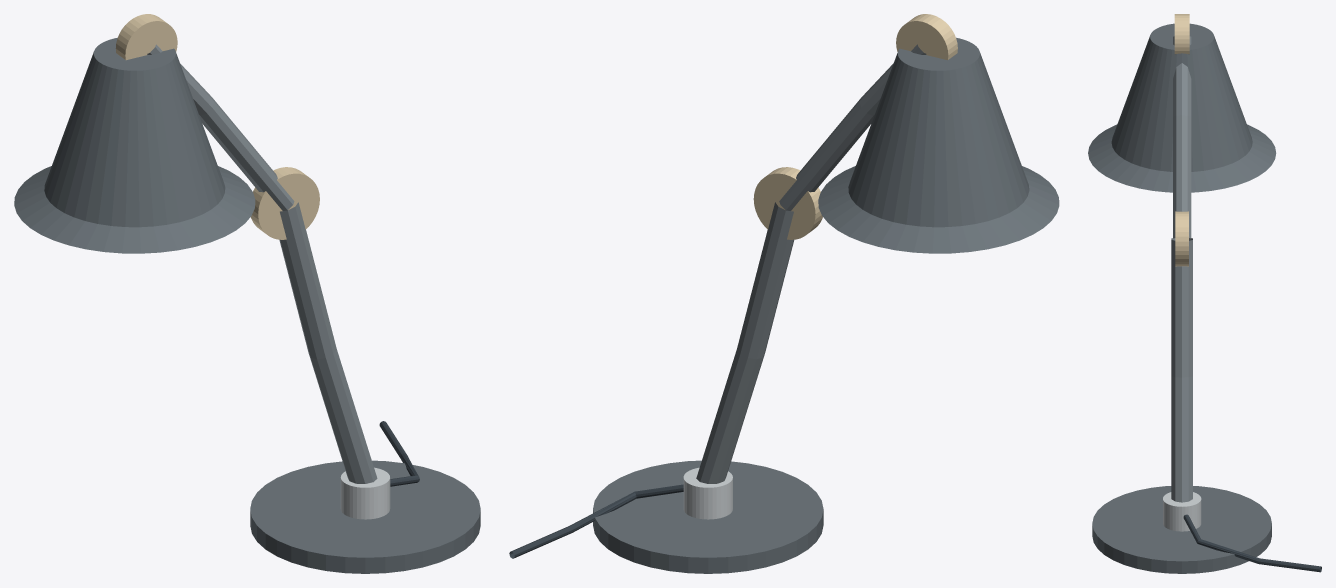
Rendered from desk-lamp.glb.
The picture shows the model from 3 angles, left to right: view 1: azimuth 30°, elevation 25°; view 2: azimuth 150°, elevation 25°; view 3: azimuth 270°, elevation 25°; orthographic projection. The views are drawn at different scales.
Parts seen in each view (by area): view 1: shade_6, lamp_base_0, graphite2_2, graphite2_4, brass_3, silver_1, brass_5, ink_9; view 2: shade_6, lamp_base_0, graphite2_2, graphite2_4, brass_3, brass_5, silver_1, ink_9; view 3: shade_6, lamp_base_0, graphite2_2, graphite2_4, silver_1, ink_9, brass_3, brass_5.
Boxes of the visible parts, x1=… form: shade_6: x1=14, y1=37, x2=255, y2=253; lamp_base_0: x1=250, y1=460, x2=480, y2=573; graphite2_2: x1=279, y1=202, x2=377, y2=483; graphite2_4: x1=147, y1=44, x2=294, y2=210; brass_3: x1=251, y1=167, x2=319, y2=239; silver_1: x1=340, y1=467, x2=390, y2=519; brass_5: x1=115, y1=14, x2=177, y2=60; ink_9: x1=379, y1=421, x2=419, y2=486; shade_6: x1=818, y1=37, x2=1059, y2=253; lamp_base_0: x1=593, y1=460, x2=823, y2=573; graphite2_2: x1=696, y1=202, x2=794, y2=483; graphite2_4: x1=779, y1=44, x2=926, y2=210; brass_3: x1=753, y1=167, x2=822, y2=239; brass_5: x1=896, y1=14, x2=957, y2=60; silver_1: x1=683, y1=467, x2=732, y2=519; ink_9: x1=509, y1=484, x2=683, y2=558; shade_6: x1=1088, y1=23, x2=1276, y2=192; lamp_base_0: x1=1092, y1=486, x2=1271, y2=573; graphite2_2: x1=1171, y1=238, x2=1192, y2=502; graphite2_4: x1=1173, y1=36, x2=1191, y2=240; silver_1: x1=1163, y1=492, x2=1201, y2=531; ink_9: x1=1183, y1=514, x2=1321, y2=572; brass_3: x1=1175, y1=211, x2=1188, y2=266; brass_5: x1=1174, y1=14, x2=1189, y2=54.
Size of the model in its own units: 1.87 by 2.25 by 1.09.
